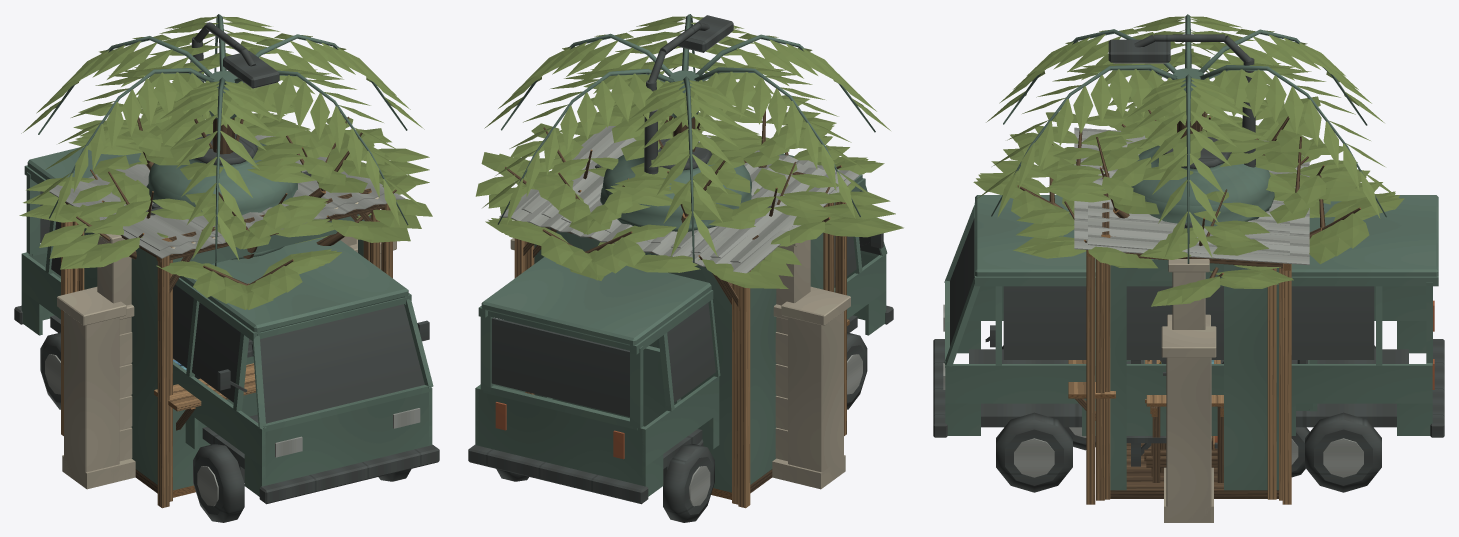
Rendered from americas-oceania.glb.
The picture shows the model from 3 angles, left to right: view 1: azimuth 30°, elevation 25°; view 2: azimuth 150°, elevation 25°; view 3: azimuth 270°, elevation 25°; orthographic projection.
Parts seen in each view (by area): view 1: minibus, palm, broadleaf-tree, acacia, kiosk, wall, canopy, water-tank, market-stall, gate, street-lamp; view 2: minibus, palm, broadleaf-tree, kiosk, acacia, wall, market-stall, canopy, water-tank, street-lamp, gate, three-wheeler; view 3: minibus, palm, kiosk, broadleaf-tree, acacia, market-stall, wall, water-tank, canopy, street-lamp, gate, three-wheeler.
Part boxes in pixels (x1,y1,x2,y2): minibus: (14,147,439,522); palm: (21,14,424,266); broadleaf-tree: (68,81,391,258); acacia: (19,108,432,309); kiosk: (49,135,405,501); wall: (57,239,396,489); canopy: (61,197,392,508); water-tank: (146,134,297,379); market-stall: (70,156,384,370); gate: (93,233,356,482); street-lamp: (190,22,279,115); minibus: (468,153,893,522); palm: (482,14,890,262); broadleaf-tree: (510,71,842,234); kiosk: (499,131,859,504); acacia: (475,109,903,288); wall: (510,238,850,489); market-stall: (521,126,846,290); canopy: (514,186,847,508); water-tank: (600,138,751,231); street-lamp: (644,15,733,174); gate: (772,240,810,482); three-wheeler: (558,335,703,445); minibus: (933,195,1444,492); palm: (976,14,1400,263); kiosk: (1068,127,1309,500); broadleaf-tree: (1010,85,1367,259); acacia: (973,107,1404,306); market-stall: (1088,128,1289,499); wall: (1161,314,1216,522); water-tank: (1131,137,1274,466); canopy: (1086,250,1291,504); street-lamp: (1108,34,1255,167); gate: (1168,259,1209,329); three-wheeler: (1064,360,1318,477).
Bounding box in the file's own units: 3.93 × 3.83 × 4.3.
Materials: 1 (1 with a texture image).
